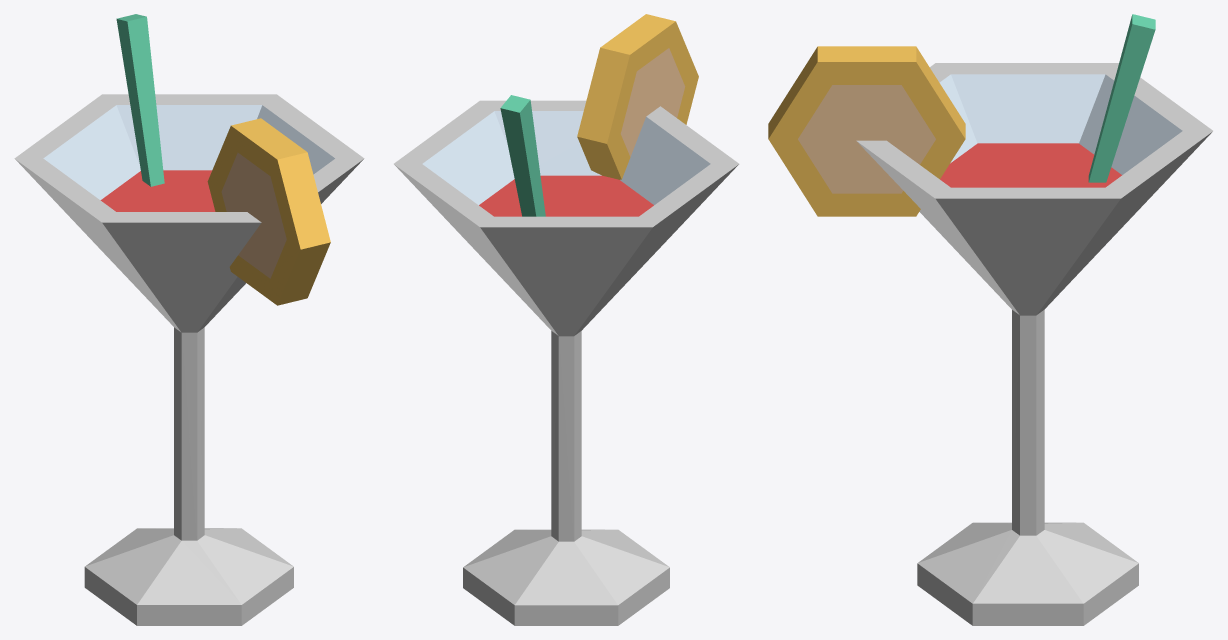
The model's file is cocktail.glb.
The picture shows the model from 3 angles, left to right: view 1: azimuth 30°, elevation 25°; view 2: azimuth 150°, elevation 25°; view 3: azimuth 270°, elevation 25°; orthographic projection. The views are drawn at different scales.
Size of the model in its own units: 0.2606 by 0.5059 by 0.3613.
